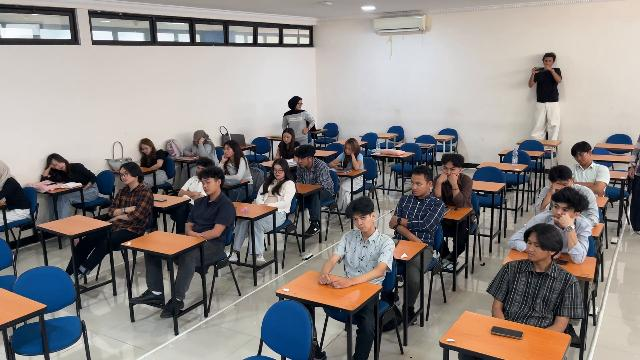bosan: (552, 201, 573, 222), (526, 236, 544, 260), (352, 212, 368, 231), (552, 179, 571, 192), (201, 178, 216, 194), (411, 178, 424, 196), (443, 164, 458, 179), (575, 151, 588, 164), (52, 158, 66, 170), (120, 169, 132, 183), (223, 144, 233, 157), (274, 165, 283, 178), (141, 144, 151, 155), (298, 157, 309, 167), (345, 144, 352, 156), (283, 134, 291, 142)
